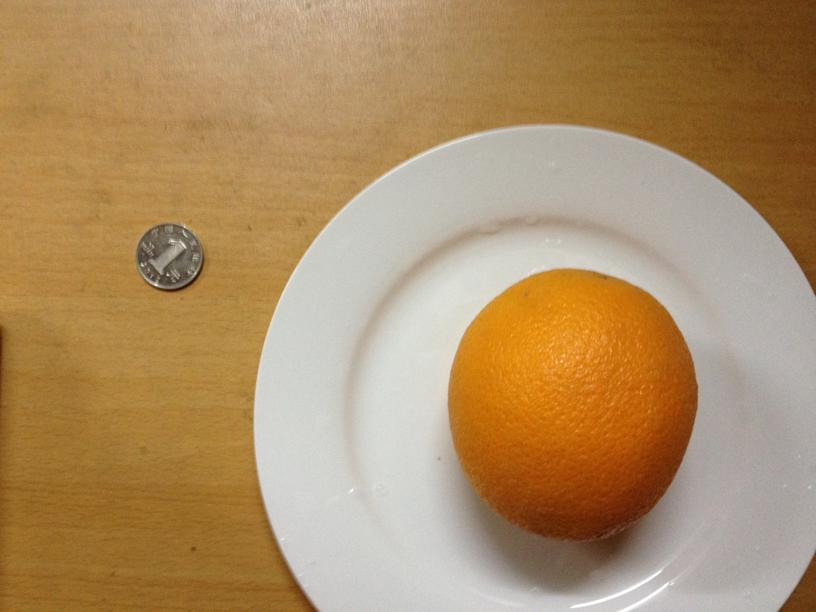coin: (130, 221, 204, 289)
orange: (451, 268, 697, 544)
